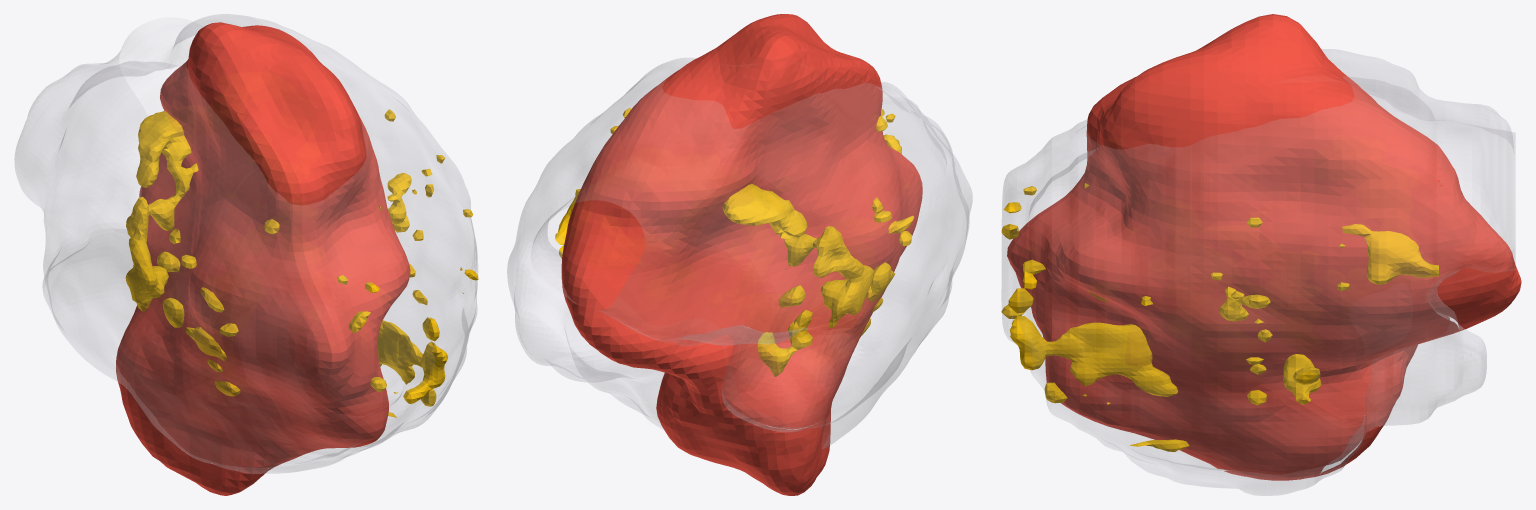
The model's file is case_28.gltf.
The picture shows the model from 3 angles, left to right: view 1: azimuth 30°, elevation 25°; view 2: azimuth 150°, elevation 25°; view 3: azimuth 270°, elevation 25°; orthographic projection. The views are drawn at different scales.
Visible parts, largest first — view 1: brain, stroke, penumbra; view 2: brain, stroke, penumbra; view 3: brain, stroke, penumbra.
Boxes of the visible parts, x1=… form: brain: x1=14, y1=14, x2=477, y2=473; stroke: x1=116, y1=22, x2=410, y2=495; penumbra: x1=125, y1=109, x2=478, y2=417; brain: x1=507, y1=57, x2=972, y2=448; stroke: x1=561, y1=14, x2=922, y2=495; penumbra: x1=555, y1=108, x2=914, y2=376; brain: x1=1001, y1=49, x2=1515, y2=495; stroke: x1=1007, y1=14, x2=1521, y2=480; penumbra: x1=1001, y1=183, x2=1438, y2=451.
Bounding box in the file's own units: 1.63 × 1.97 × 2.
